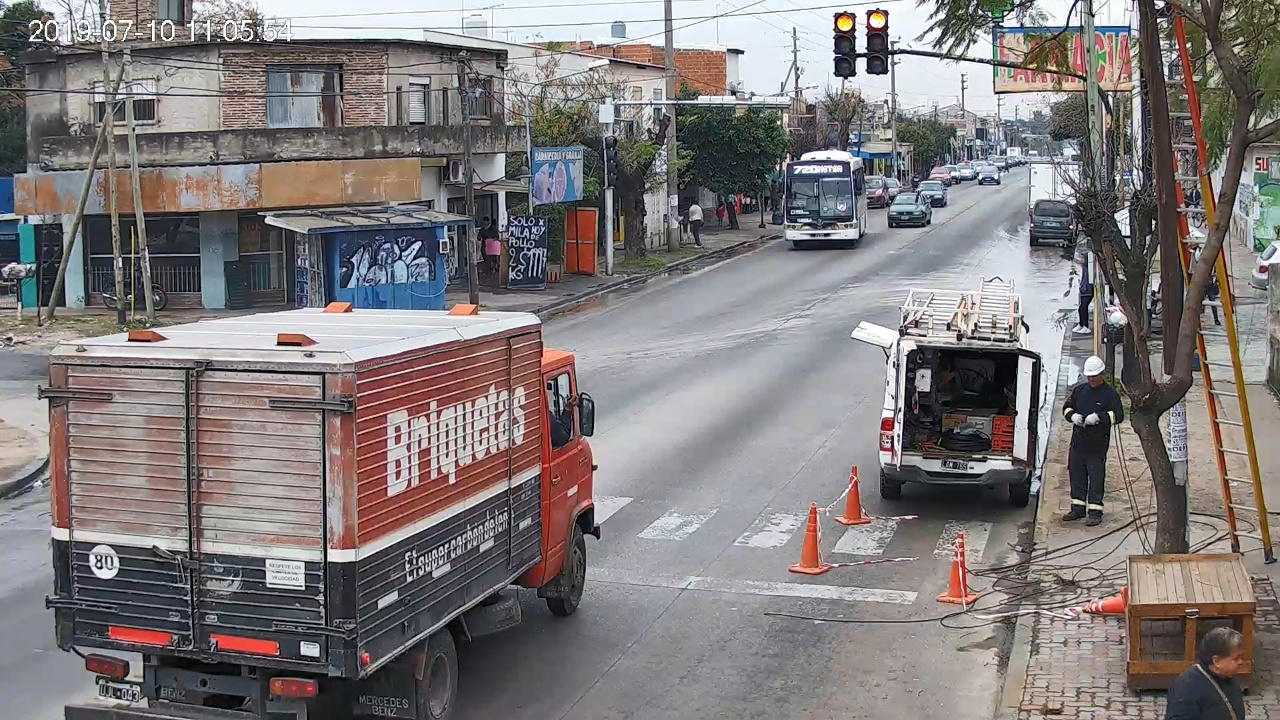front bus: (785, 150, 866, 248)
traffic light: (834, 13, 855, 76), (868, 11, 887, 74)
truck: (39, 302, 602, 720)
